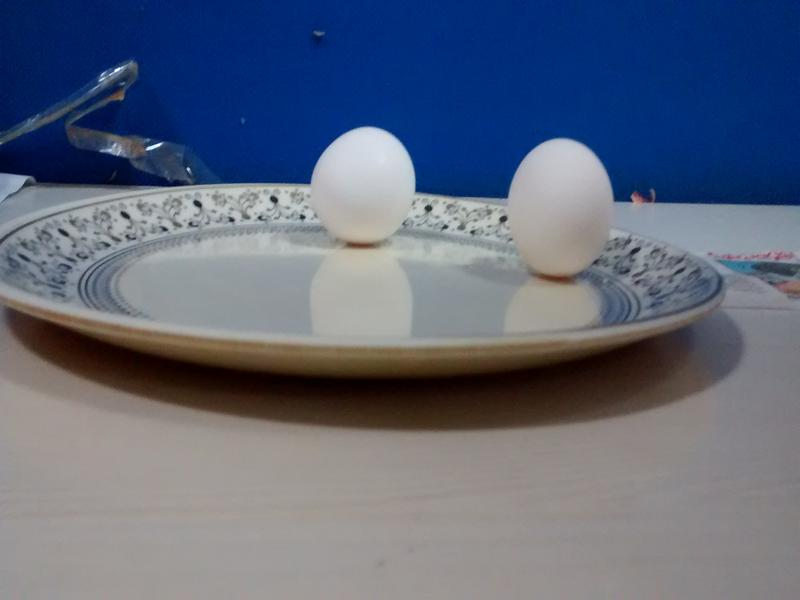egg: (315, 122, 415, 240)
